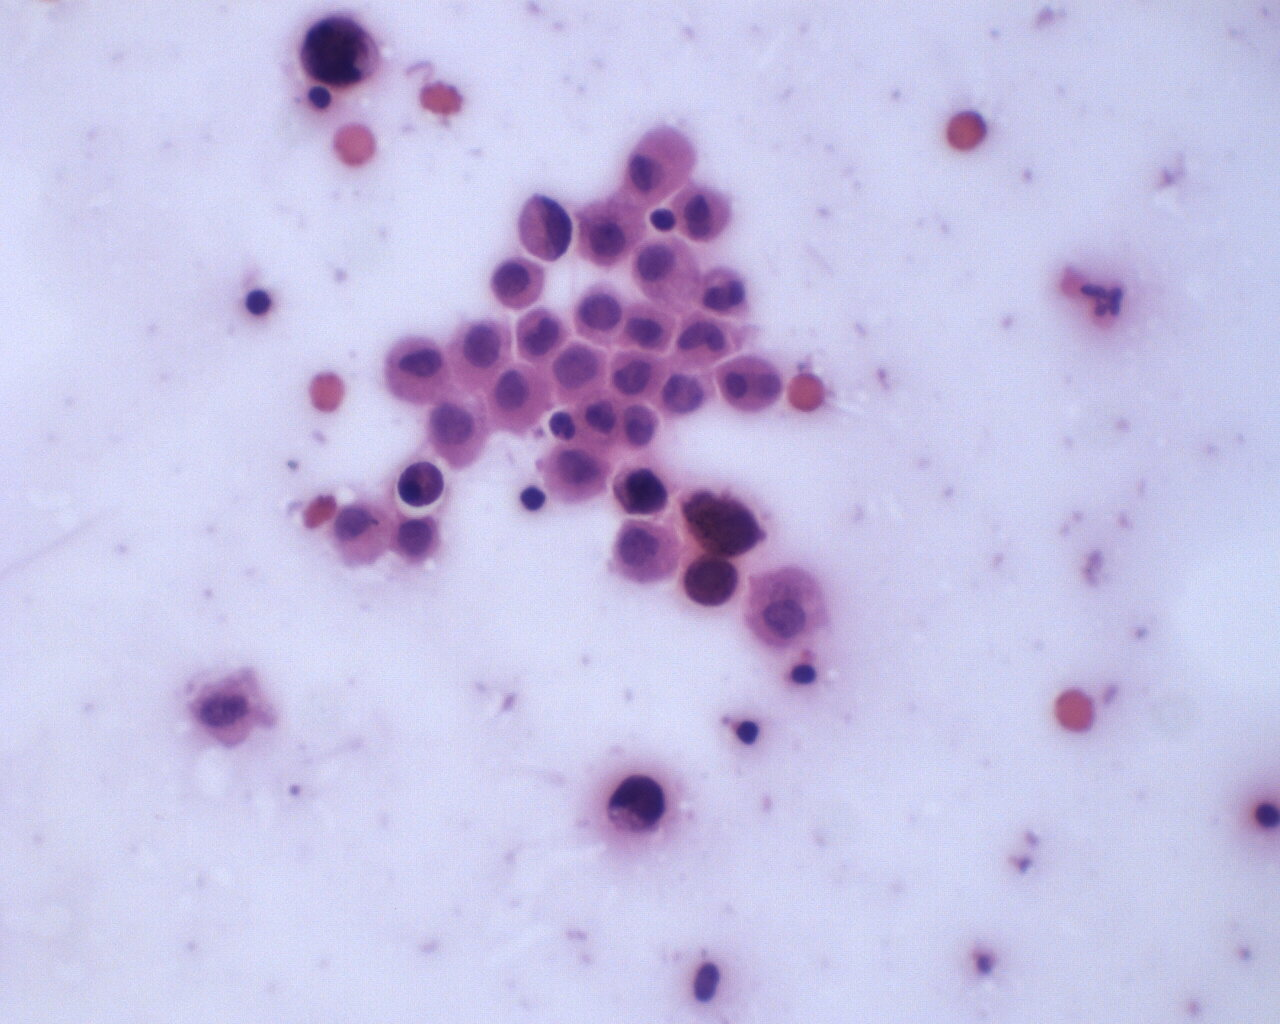ab: (298, 13, 388, 93), (611, 461, 672, 517), (684, 553, 741, 610), (611, 348, 671, 402), (394, 460, 448, 510)
lymph: (518, 483, 546, 516), (245, 288, 273, 321)
meso: (744, 566, 839, 660), (630, 234, 707, 311), (608, 511, 685, 585), (574, 194, 649, 265), (446, 318, 514, 386), (488, 364, 552, 433), (489, 257, 553, 313), (569, 287, 628, 347)
